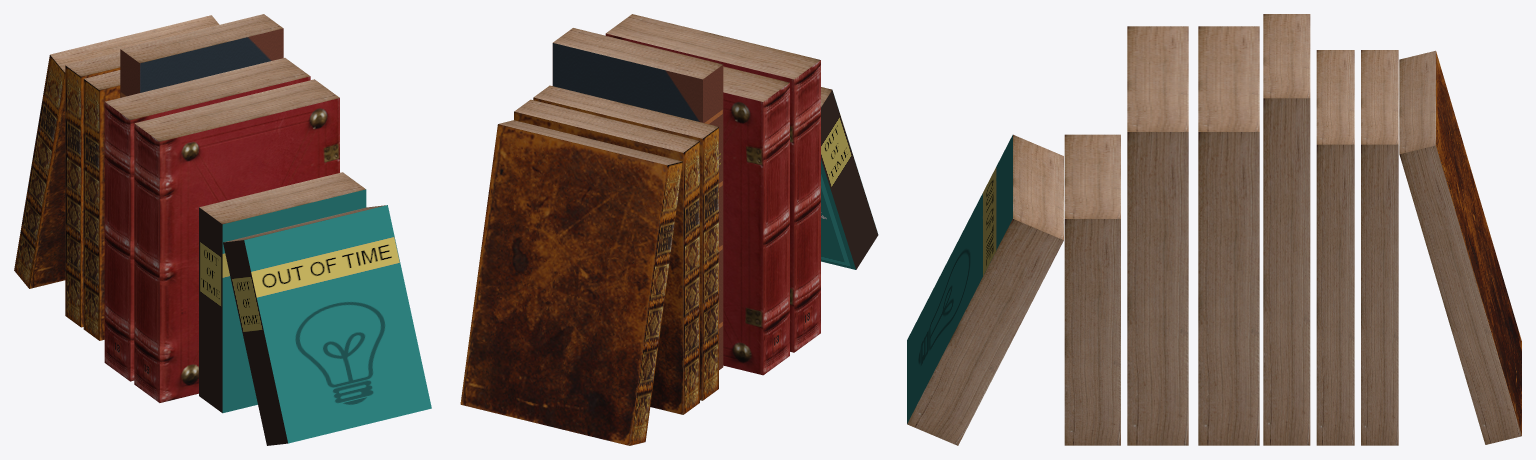
Rendered from Book_Pile_02.FBX.
3 renders of one model, left to right at view 1: azimuth 30°, elevation 25°; view 2: azimuth 150°, elevation 25°; view 3: azimuth 270°, elevation 25°, orthographic. The views are drawn at different scales.
Parts seen in each view (by area): view 1: Book_Pile_02; view 2: Book_Pile_02; view 3: Book_Pile_02.
Part boxes in pixels (x1,y1,x2,y2): Book_Pile_02: (14,14,431,445); Book_Pile_02: (460,14,878,445); Book_Pile_02: (907,14,1521,445).
Size of the model in its own units: 0.1821 by 0.2794 by 0.4478.
